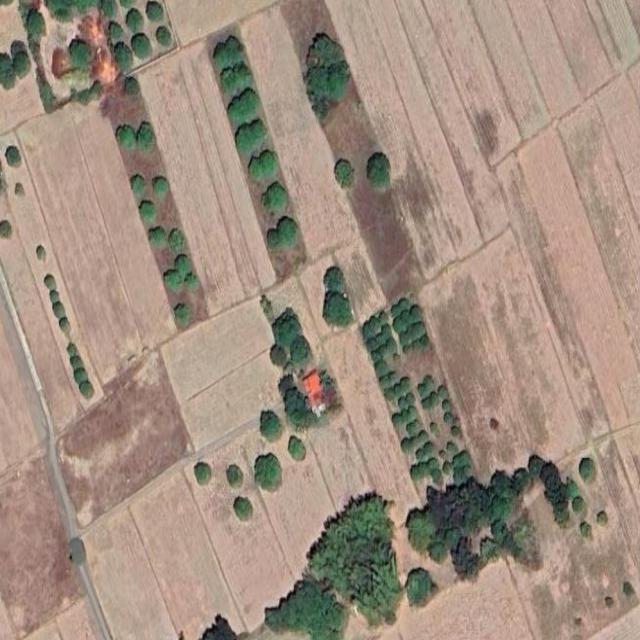Tree: (312, 489, 406, 628), (266, 582, 347, 640), (304, 61, 356, 104), (308, 31, 349, 72), (452, 534, 482, 585), (252, 451, 284, 493), (407, 505, 433, 553), (228, 87, 262, 122), (428, 488, 454, 531), (325, 288, 352, 328), (284, 384, 308, 429), (271, 312, 302, 346), (366, 150, 391, 192), (212, 38, 245, 69), (467, 488, 488, 535), (201, 615, 238, 640), (408, 568, 432, 605), (259, 408, 283, 444), (488, 494, 514, 526), (221, 66, 253, 92), (457, 475, 484, 503), (544, 473, 568, 504), (27, 7, 46, 45), (68, 40, 92, 70), (265, 184, 290, 212), (138, 122, 156, 160), (321, 267, 346, 294), (233, 494, 255, 524), (124, 8, 146, 37), (277, 216, 298, 246), (267, 342, 290, 369), (290, 337, 311, 366), (337, 158, 355, 191), (276, 367, 296, 396), (118, 125, 137, 154), (448, 499, 465, 531), (226, 460, 244, 490), (514, 466, 532, 496), (236, 124, 254, 154), (493, 466, 512, 494), (444, 526, 464, 552), (539, 458, 559, 484), (134, 33, 154, 59), (259, 150, 278, 177), (194, 461, 214, 485), (162, 268, 182, 292), (481, 532, 495, 566), (579, 457, 597, 483), (13, 52, 31, 78), (174, 250, 190, 279), (156, 26, 176, 49), (173, 304, 190, 331), (288, 436, 307, 460), (556, 496, 569, 530), (428, 541, 446, 565), (491, 519, 506, 547), (452, 449, 473, 469), (138, 201, 158, 222), (149, 227, 168, 249), (169, 226, 185, 252), (116, 42, 132, 68), (108, 20, 125, 44), (145, 3, 165, 23), (311, 98, 329, 120), (0, 68, 17, 91), (528, 452, 543, 478), (100, 0, 120, 19), (267, 230, 284, 252), (252, 118, 268, 141), (69, 350, 85, 373), (411, 464, 431, 482), (248, 157, 263, 181), (7, 142, 22, 164), (125, 74, 141, 94), (74, 364, 90, 384), (373, 360, 389, 379), (131, 176, 146, 196), (154, 176, 170, 194), (428, 423, 442, 443), (80, 378, 94, 398), (455, 464, 470, 482), (53, 301, 67, 320), (186, 272, 198, 294), (409, 304, 422, 324), (404, 326, 419, 343), (0, 50, 13, 69), (0, 221, 12, 241), (61, 316, 72, 336), (46, 272, 58, 290), (572, 497, 586, 512), (380, 324, 394, 339), (417, 384, 429, 401), (407, 419, 419, 436), (402, 309, 413, 327), (400, 408, 411, 426), (402, 438, 416, 452), (369, 316, 381, 332), (432, 468, 444, 484), (49, 289, 60, 306), (366, 338, 378, 353), (394, 316, 404, 334), (425, 377, 435, 395), (392, 412, 404, 427), (421, 396, 431, 414), (428, 391, 438, 409), (414, 448, 426, 463), (424, 442, 436, 457), (427, 457, 439, 472), (385, 387, 396, 403), (398, 396, 409, 412), (408, 405, 419, 421), (387, 339, 398, 354), (581, 522, 591, 538), (363, 322, 373, 338), (399, 333, 409, 349), (442, 460, 452, 476), (67, 343, 79, 355), (398, 297, 409, 310), (370, 349, 381, 362), (597, 512, 607, 526), (390, 304, 400, 318), (414, 324, 424, 338), (436, 385, 446, 399), (375, 332, 384, 347), (402, 376, 411, 391), (393, 384, 404, 396), (379, 311, 388, 325), (445, 414, 454, 428), (446, 444, 456, 456), (38, 244, 46, 259), (407, 393, 416, 406), (451, 426, 460, 439), (420, 430, 430, 441), (419, 334, 428, 345), (438, 447, 446, 459), (441, 403, 450, 413)
